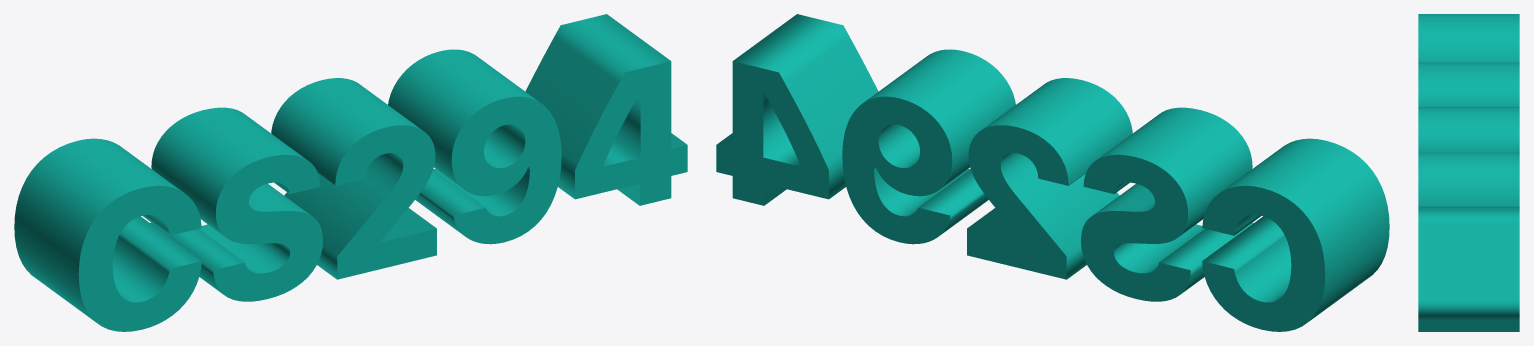
The picture shows the model from 3 angles, left to right: view 1: azimuth 30°, elevation 25°; view 2: azimuth 150°, elevation 25°; view 3: azimuth 270°, elevation 25°; orthographic projection. The views are drawn at different scales.
Parts seen in each view (by area): view 1: polySurfac.001; view 2: polySurfac.001; view 3: polySurfac.001.
Part boxes in pixels (x1,y1,x2,y2): polySurfac.001: (14, 14, 687, 331); polySurfac.001: (716, 14, 1389, 331); polySurfac.001: (1418, 14, 1519, 331).
Bounding box in the file's own units: 4.37 × 0.986 × 0.8.
